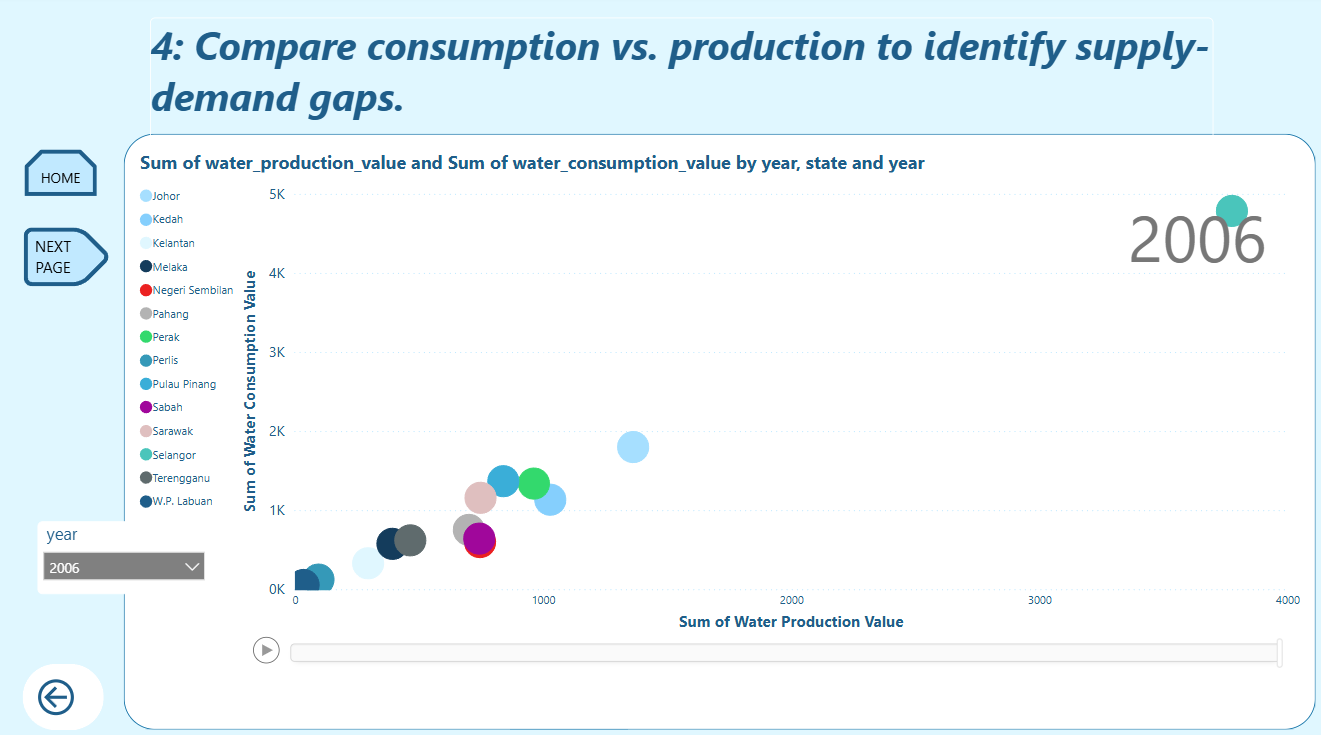

Layout of this report page (visuals, bound fields, positions):
{"tool":"powerbi","page":{"name":"OBJ 4","canvas":[1280,720],"ordinal":4},"visuals":[{"type":"scatterChart","fields":{"Category":["DATASET_WATER.year"],"X":["Sum(DATASET_WATER.water_production_value)"],"Y":["Sum(DATASET_WATER.water_consumption_value)"],"Series":["DATASET_WATER.state"],"Play":["DATASET_WATER.year"]},"box":[120,133.3,1150,575],"z":0},{"type":"shape","box":[8.3,133.3,100,75],"z":1000},{"type":"actionButton","box":[23.3,225,85,56.7],"z":2000},{"type":"actionButton","box":[21.4,645.7,78.6,64.3],"z":3000},{"type":"textbox","box":[145,21.7,1026.7,150],"z":4000},{"type":"slicer","fields":{"Values":["DATASET_WATER.year"]},"box":[36.2,507.5,167.5,70],"z":5000}]}

Visuals, with their boxes in screenshot pixels (x1, y1, x2, y2), scaled from the page's 1280x720 canvas onto the 1321x735 screenshot:
scatterChart - DATASET_WATER.year x Sum(DATASET_WATER.water_production_value): rect(124, 136, 1311, 723)
shape: rect(9, 136, 112, 213)
actionButton: rect(24, 230, 112, 288)
actionButton: rect(22, 659, 103, 725)
textbox: rect(150, 22, 1209, 175)
slicer - DATASET_WATER.year: rect(37, 518, 210, 590)
